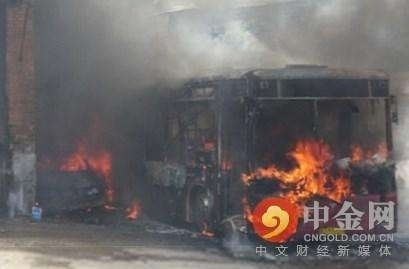fire: (239, 136, 384, 203), (51, 139, 141, 216)
